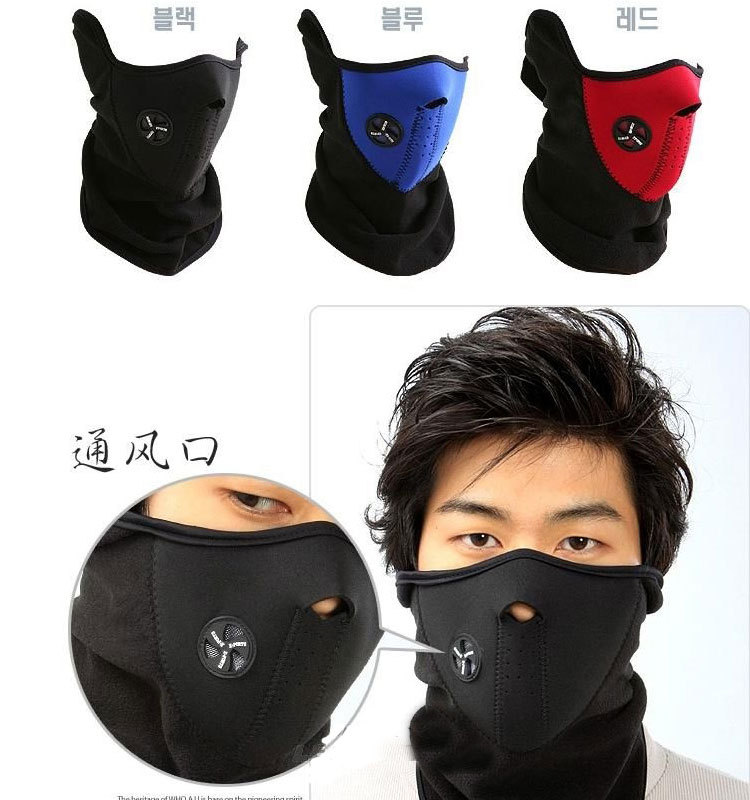face_mask: (412, 411, 650, 757)
